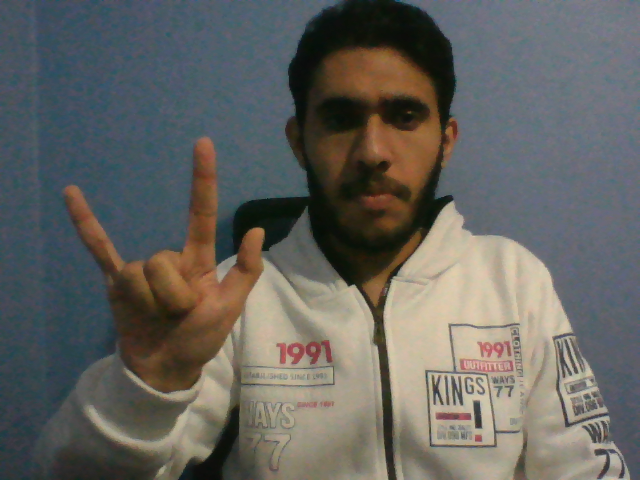iloveyou: (61, 129, 269, 377)
